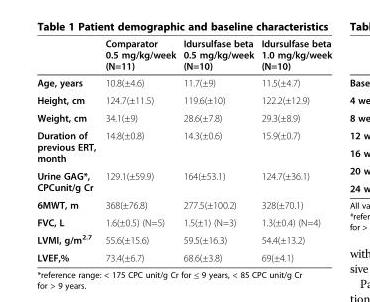table: (36, 37, 331, 263)
table column: (99, 37, 178, 263), (178, 37, 256, 263), (256, 37, 331, 263), (36, 37, 99, 263)
table column header: (36, 37, 331, 73)
table row: (36, 126, 331, 166), (36, 37, 331, 73), (36, 166, 331, 195), (36, 73, 331, 91), (36, 108, 331, 126), (36, 195, 331, 213), (36, 230, 331, 248), (36, 91, 331, 108), (36, 213, 331, 230), (36, 248, 331, 263)
